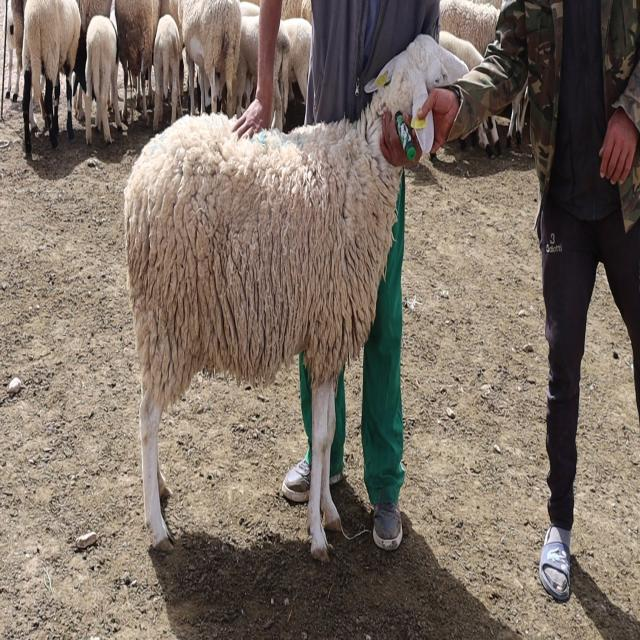Score_2: (124, 34, 469, 558)
